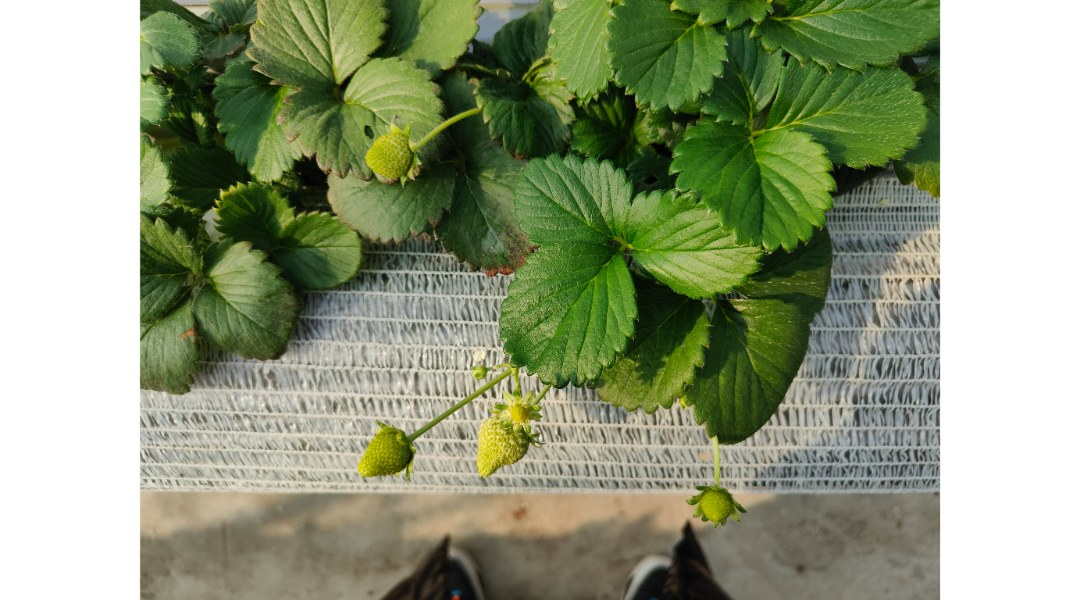berry: (475, 401, 535, 491), (339, 420, 421, 484), (356, 122, 418, 184), (692, 485, 757, 536), (494, 393, 546, 434)
strain: (405, 359, 515, 440), (410, 106, 487, 150), (702, 413, 732, 501)
